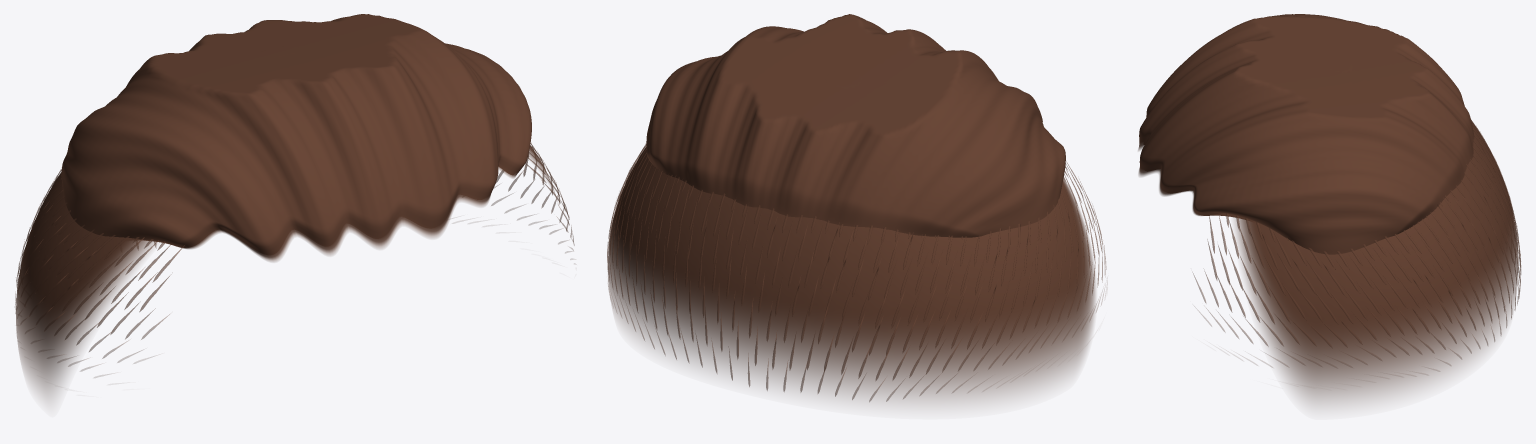
The model's file is Masculine-sidepart-bucket259-hair.glb.
3 renders of one model, left to right at view 1: azimuth 30°, elevation 25°; view 2: azimuth 150°, elevation 25°; view 3: azimuth 270°, elevation 25°, orthographic. The views are drawn at different scales.
Parts seen in each view (by area): view 1: 226 hair / Hair259 / textured forward Crop, 226 hair / Hair258 / smooth side fade, 226 hair / Hair259 / directional fade marks214; view 2: 226 hair / Hair258 / smooth side fade, 226 hair / Hair259 / textured forward Crop, 226 hair / Hair259 / directional fade marks214; view 3: 226 hair / Hair259 / textured forward Crop, 226 hair / Hair258 / smooth side fade, 226 hair / Hair259 / directional fade marks214.
Boxes of the visible parts, bbox=[...] form: 226 hair / Hair259 / textured forward Crop: bbox=[61, 14, 531, 261]; 226 hair / Hair258 / smooth side fade: bbox=[16, 45, 554, 399]; 226 hair / Hair259 / directional fade marks214: bbox=[15, 143, 574, 377]; 226 hair / Hair258 / smooth side fade: bbox=[608, 70, 1095, 403]; 226 hair / Hair259 / textured forward Crop: bbox=[646, 14, 1065, 237]; 226 hair / Hair259 / directional fade marks214: bbox=[607, 144, 1107, 401]; 226 hair / Hair259 / textured forward Crop: bbox=[1138, 14, 1474, 254]; 226 hair / Hair258 / smooth side fade: bbox=[1234, 56, 1518, 405]; 226 hair / Hair259 / directional fade marks214: bbox=[1193, 119, 1521, 374].
Size of the model in its own units: 0.9743 by 0.6057 by 0.7545.
